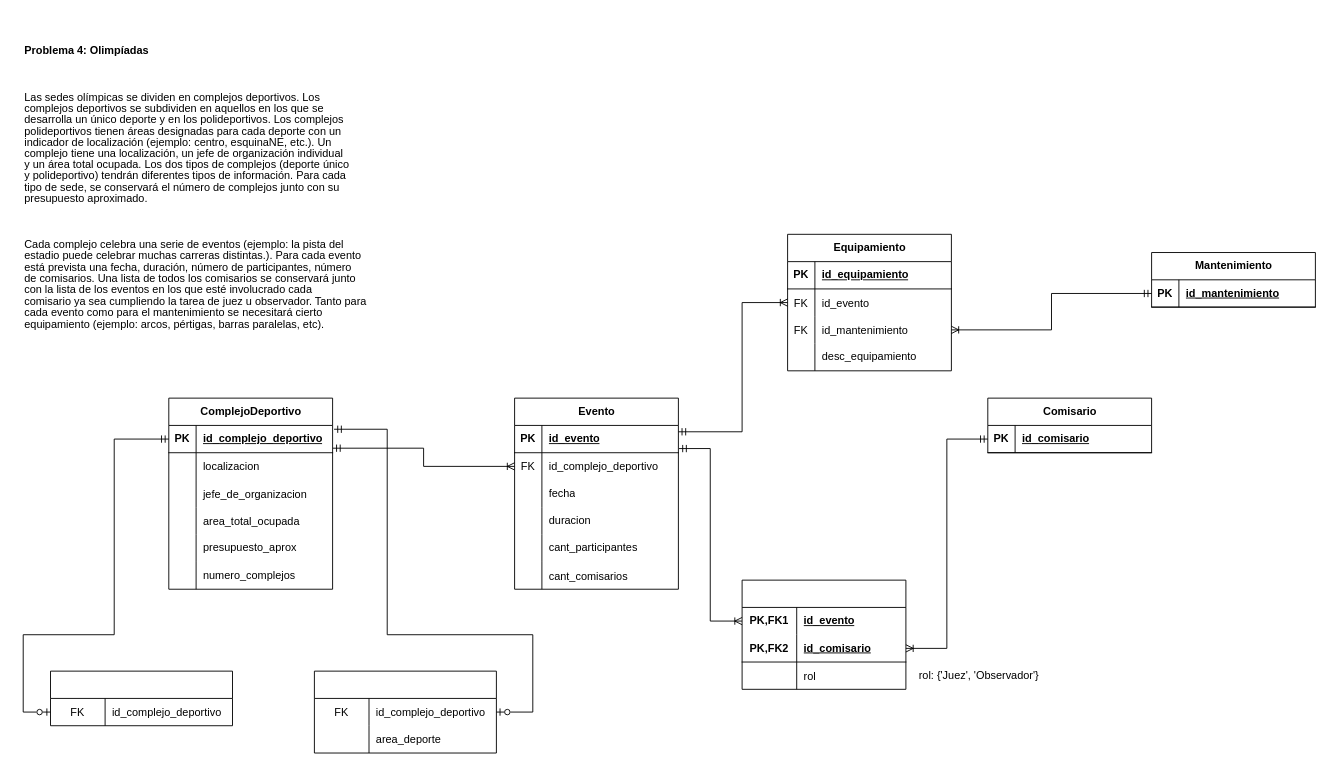
The diagram is 1331 pixels wide and 769 high, and some of its shapes have lost their labels. The shapes that lost their labels are listed below. From the top down, each one's box as (x1, y1, x2, y2) in pixels, then its label:
(741, 579, 906, 689): Evento_Comisario
(50, 670, 233, 726): UniDeportivo
(313, 670, 496, 753): PoliDeportivo
